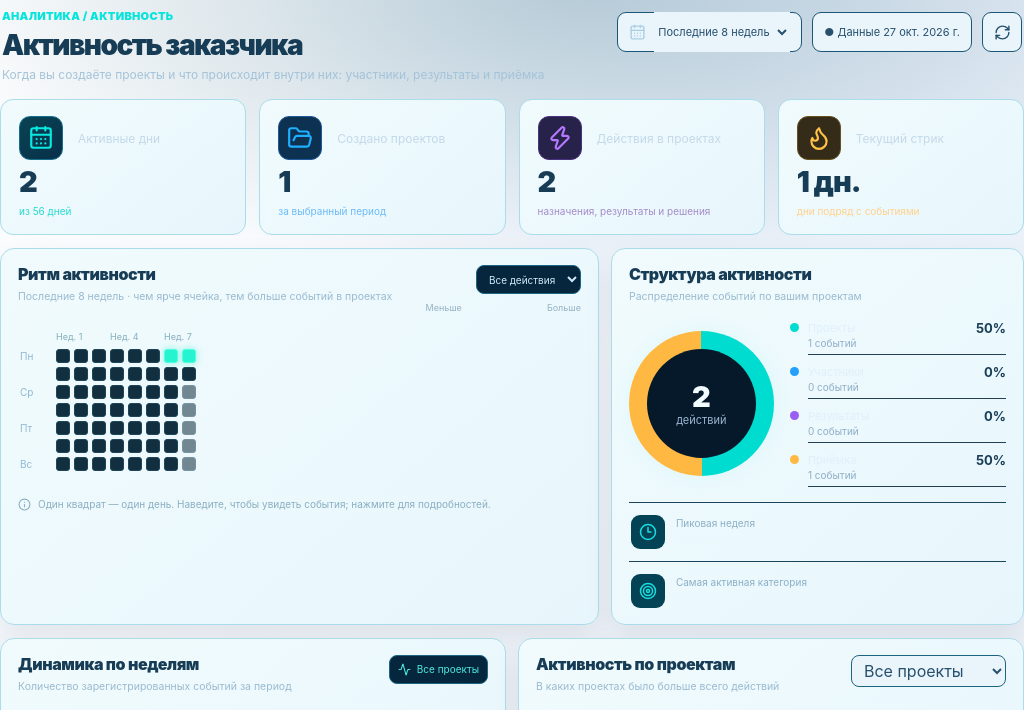
customer activity dashboard › filters event categories and lets a customer inspect a day
Select "Приёмка" in the dropdown named "Тип событий": (528, 280) [476,265,581,294]
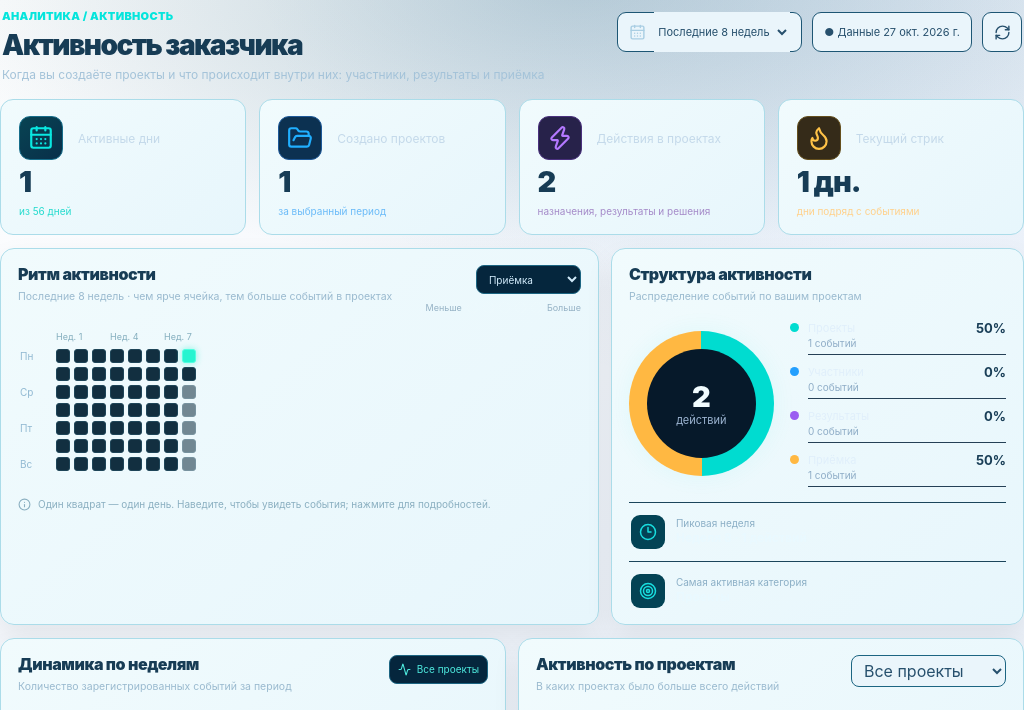
Hover over the 8th button with class "ca3-heat-cell": (189, 356) [182,349,196,363]
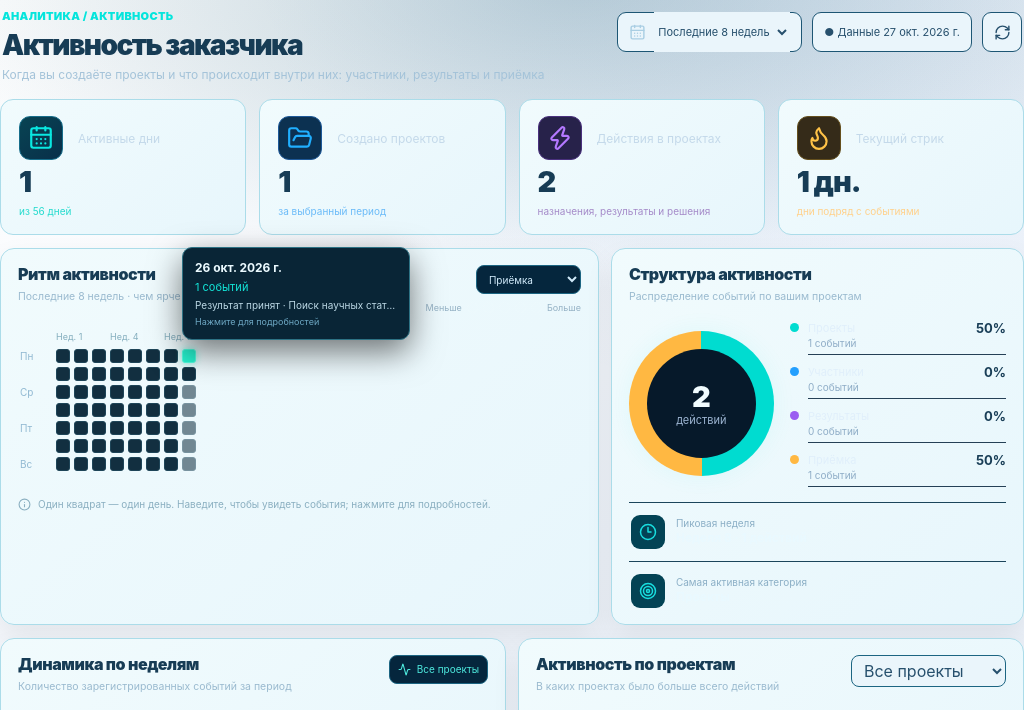
expect the tooltip shows "1 событий": met, box [195,280,248,294]
Click the 8th button with class "ca3-heat-cell": (189, 356) [182,349,196,363]
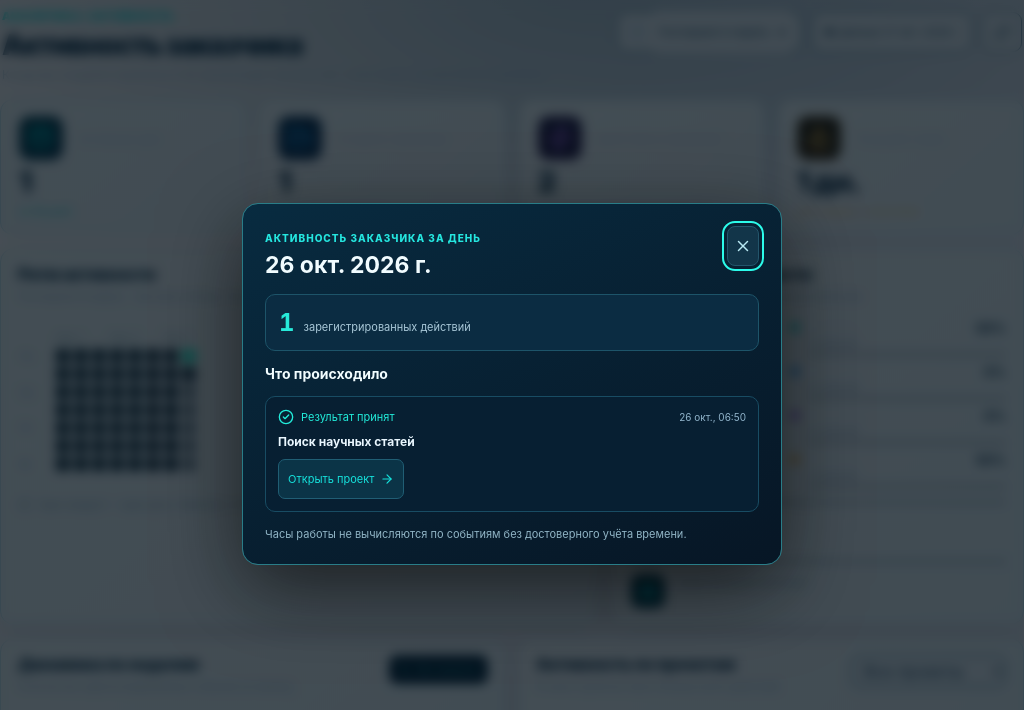
expect the dialog "АКТИВНОСТЬ" is shown: met, box [242,203,782,565]
expect the dialog "АКТИВНОСТЬ" shows "Результат принят": met, box [301,410,394,424]
expect the dialog "АКТИВНОСТЬ" shows "Поиск научных статей": met, box [278,434,415,448]
Press Escape
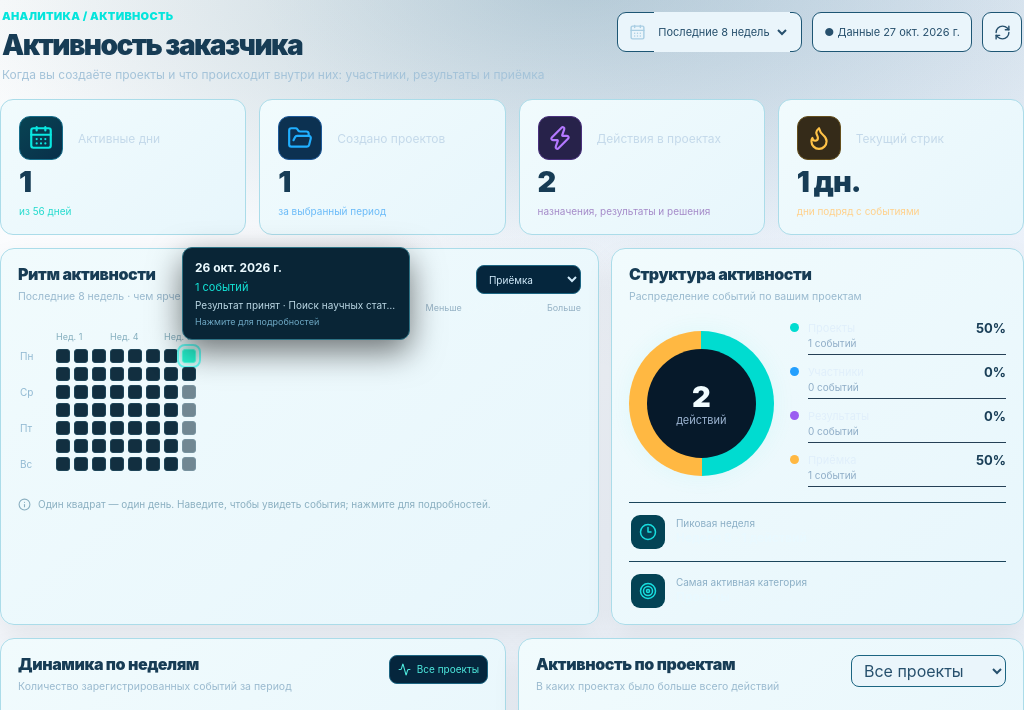
expect the dialog is gone: met
